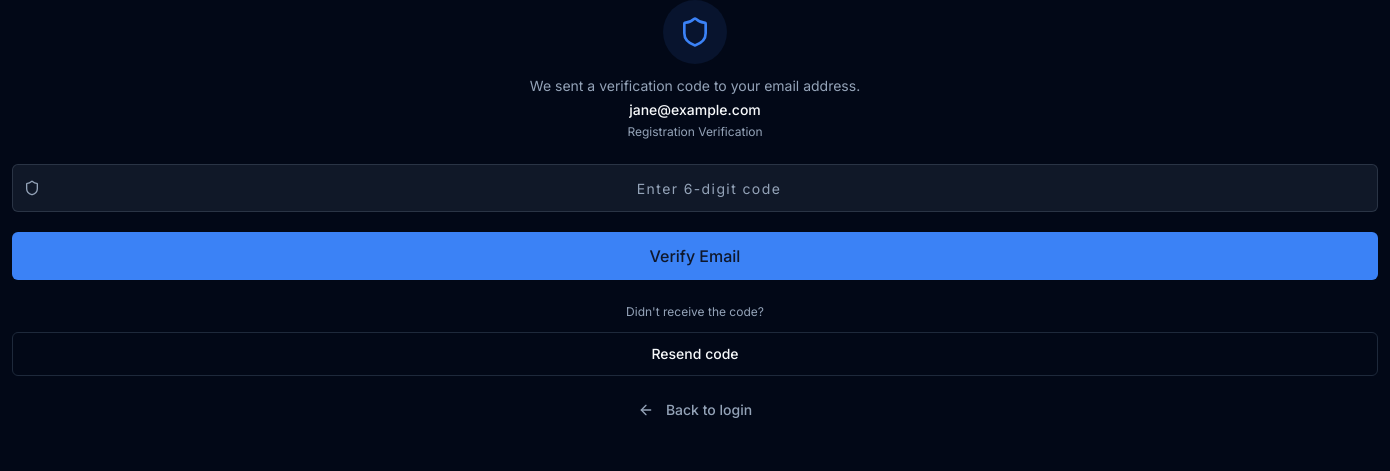
Test: VerifyForm › shows the fallback message when verification fails
Type "123456" into the field with placeholder "Enter 6-digit code" at point(695, 188), box left=12, top=164, right=1378, bottom=212
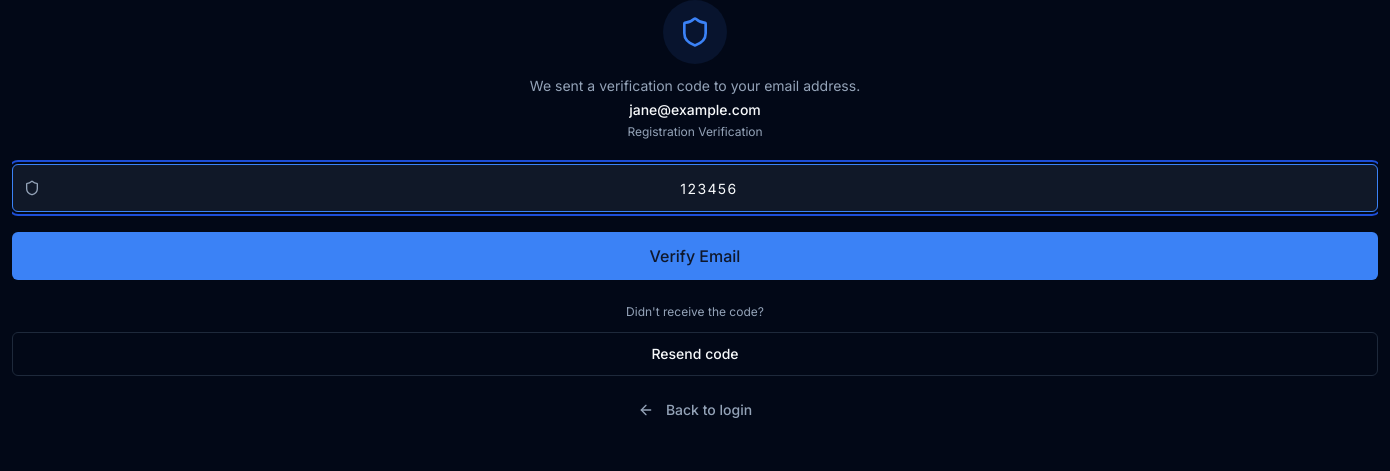
Click the button "Verify Email" at point(695, 256), box left=12, top=232, right=1378, bottom=280
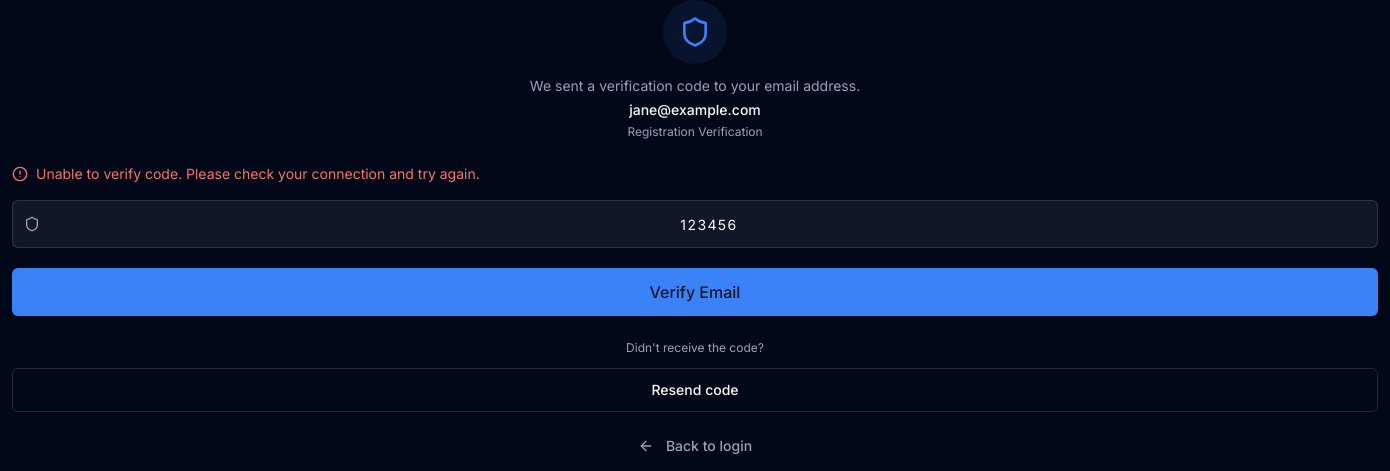
Expected: the text "Unable to verify code. Please check your connection and try again." is shown, left=36, top=164, right=480, bottom=184
